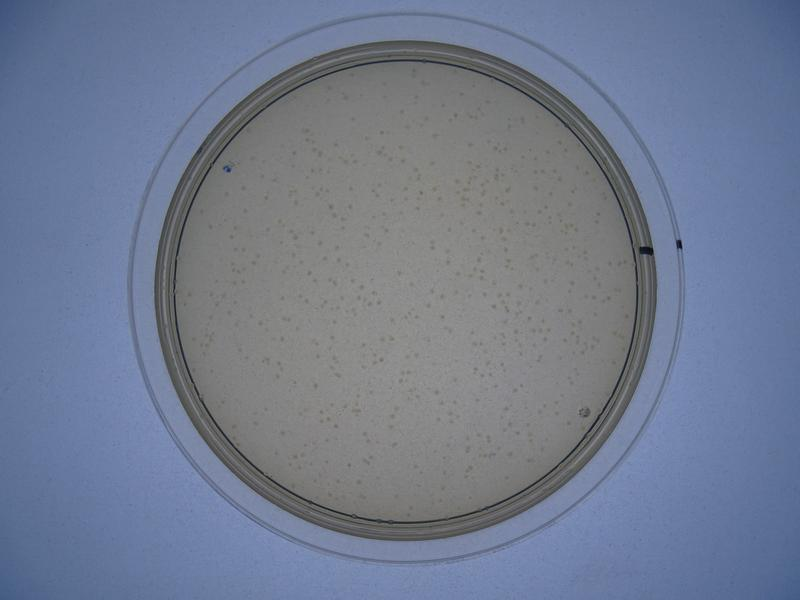colony: (386, 437, 404, 455), (458, 136, 477, 153), (426, 127, 444, 144), (273, 426, 290, 442), (234, 180, 250, 197), (424, 154, 439, 171), (390, 266, 405, 282), (306, 379, 321, 394), (273, 332, 289, 346), (463, 325, 478, 339), (325, 329, 340, 343), (340, 459, 355, 473), (373, 127, 388, 141), (441, 222, 455, 237), (394, 107, 408, 121), (275, 290, 288, 305), (317, 251, 330, 266), (428, 385, 442, 398), (589, 208, 607, 218), (205, 221, 216, 234)
